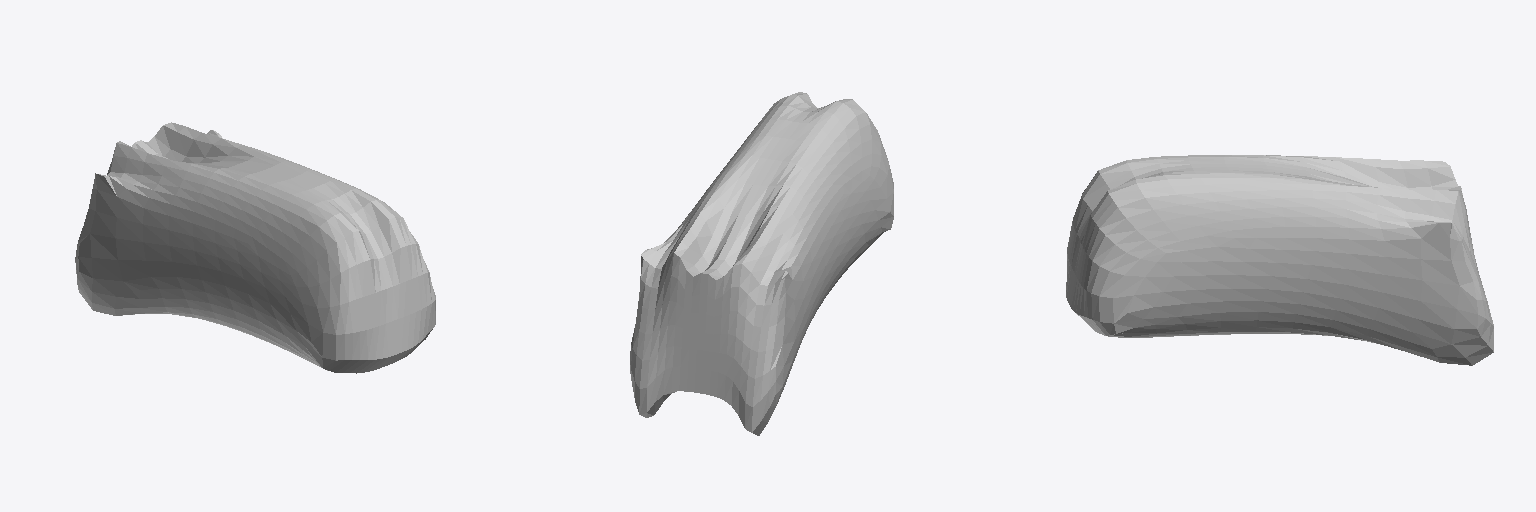
File: rearlsmalltoe2.obj
The picture shows the model from 3 angles: view 1: azimuth 30°, elevation 25°; view 2: azimuth 150°, elevation 25°; view 3: azimuth 270°, elevation 25°; orthographic projection.
Parts seen in each view (by area): view 1: Cube.154_Cube.156; view 2: Cube.154_Cube.156; view 3: Cube.154_Cube.156.
Boxes of the visible parts, box(x1,y1,x2,y2) form: Cube.154_Cube.156: box(75, 122, 435, 373); Cube.154_Cube.156: box(630, 92, 893, 435); Cube.154_Cube.156: box(1066, 155, 1493, 365).
Bounding box in the file's own units: 0.0334 × 0.0341 × 0.0668.